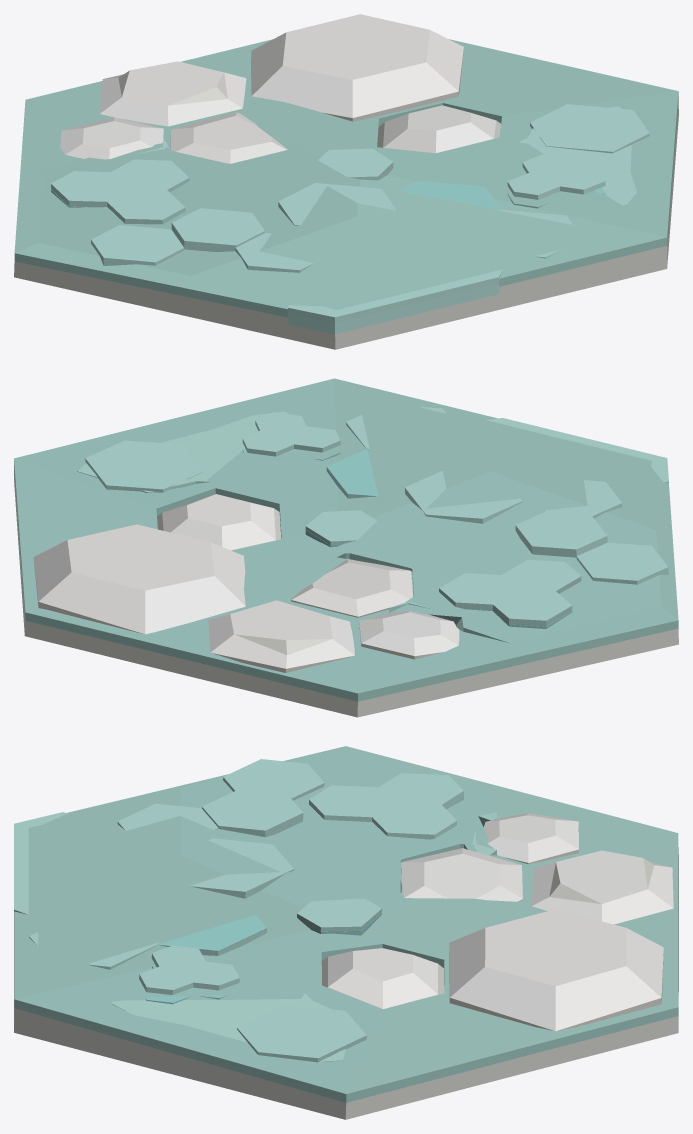
File: HexagonePlain01.fbx
3 renders of one model, top to bottom at view 1: azimuth 30°, elevation 25°; view 2: azimuth 150°, elevation 25°; view 3: azimuth 270°, elevation 25°, orthographic. The views are drawn at different scales.
Parts seen in each view (by area): view 1: Hexagoneplain01_Final, Hexagoneplain01_Base, Hexagoneplain01_middle; view 2: Hexagoneplain01_Final, Hexagoneplain01_Base, Hexagoneplain01_middle; view 3: Hexagoneplain01_Final, Hexagoneplain01_Base, Hexagoneplain01_middle.
Boxes of the visible parts, <box> form: Hexagoneplain01_Final: <box>14,39,678,317</box>; Hexagoneplain01_Base: <box>14,14,678,349</box>; Hexagoneplain01_middle: <box>51,106,636,334</box>; Hexagoneplain01_Final: <box>14,378,678,701</box>; Hexagoneplain01_Base: <box>14,469,678,717</box>; Hexagoneplain01_middle: <box>77,411,668,628</box>; Hexagoneplain01_Final: <box>14,746,678,1102</box>; Hexagoneplain01_Base: <box>14,813,678,1119</box>; Hexagoneplain01_middle: <box>14,797,496,1061</box>.
Size of the model in its own units: 993 by 74.22 by 802.
